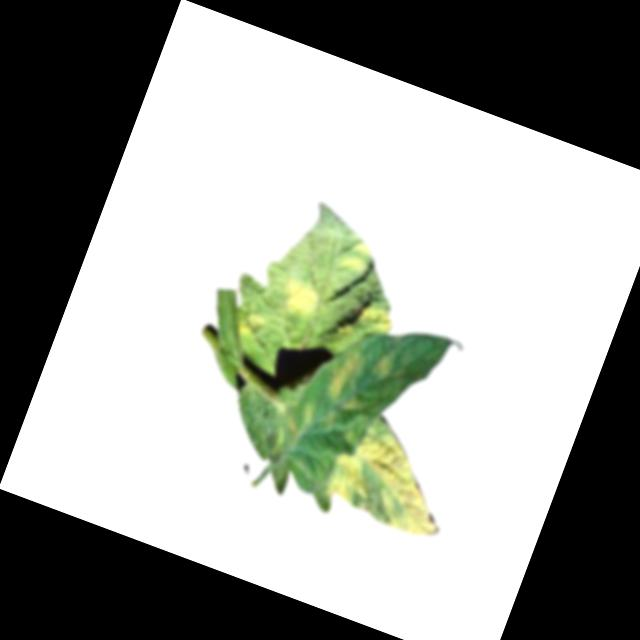Leaf_Mold: (320, 417, 465, 544), (324, 343, 366, 405), (277, 274, 329, 324), (338, 234, 378, 278), (357, 300, 397, 338), (231, 304, 268, 342), (369, 347, 397, 383)
